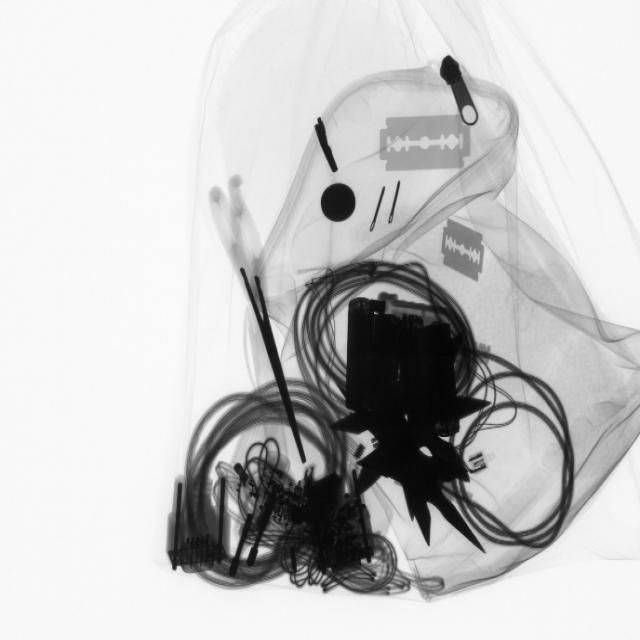BLADE: (373, 103, 481, 183), (436, 214, 492, 287)
SHURIKEN: (342, 313, 472, 555)
